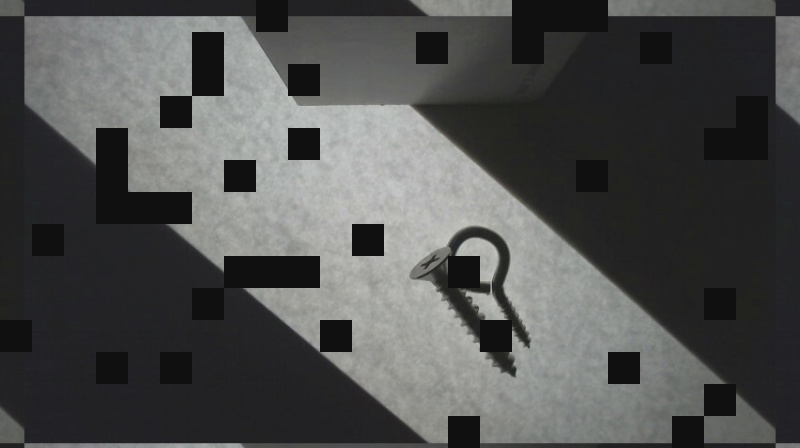O001: (442, 225, 533, 351)
S001: (407, 243, 519, 379)
